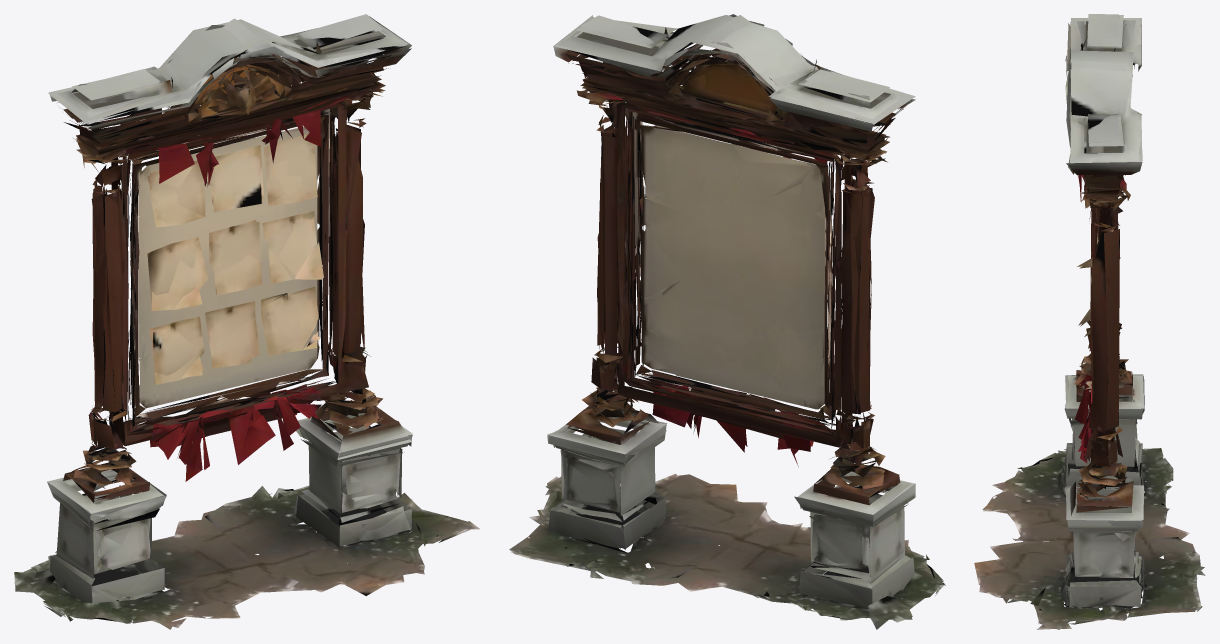
File: town_board.glb
3 renders of one model, left to right at view 1: azimuth 30°, elevation 25°; view 2: azimuth 150°, elevation 25°; view 3: azimuth 270°, elevation 25°, orthographic. The views are drawn at different scales.
Parts seen in each view (by area): view 1: town_board; view 2: town_board; view 3: town_board.
Part boxes in pixels (x1,y1,x2,y2): town_board: [14, 14, 479, 629]; town_board: [509, 14, 945, 629]; town_board: [974, 14, 1205, 629].
Bounding box in the file's own units: 3.07 × 3.83 × 1.64.
1 material, 1 textured.
